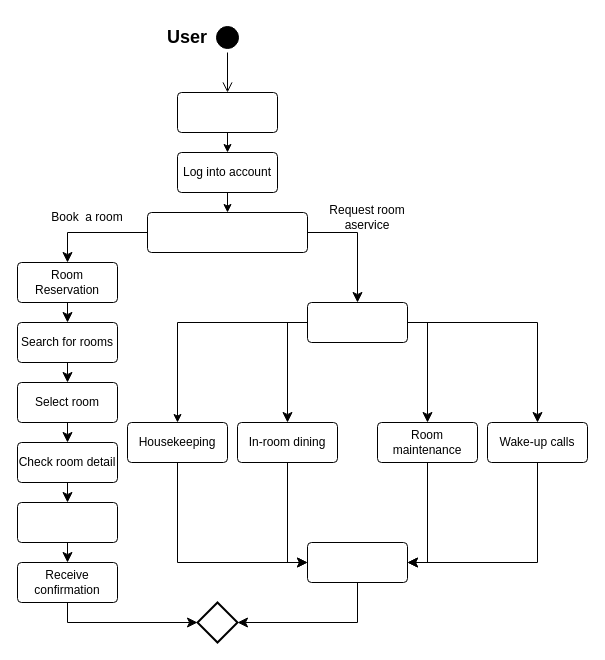
The diagram is 605 pixels wide and 660 high, and some of its shapes have lost their labels. The shapes that lost their labels are listed below. From the top down, each one's centre as x and y in pixels, then its label:
pixel 227 112: Input username and password
pixel 227 232: Request Service
pixel 357 322: Room Services
pixel 67 522: Confirm reservation
pixel 357 562: Submit request
